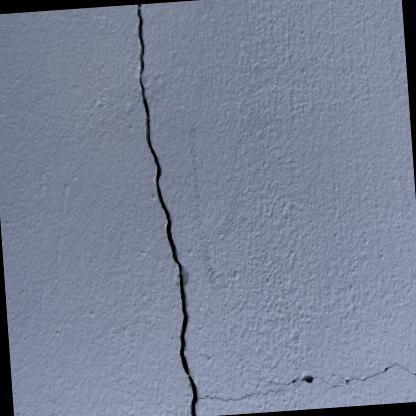crack: (135, 4, 201, 416)
